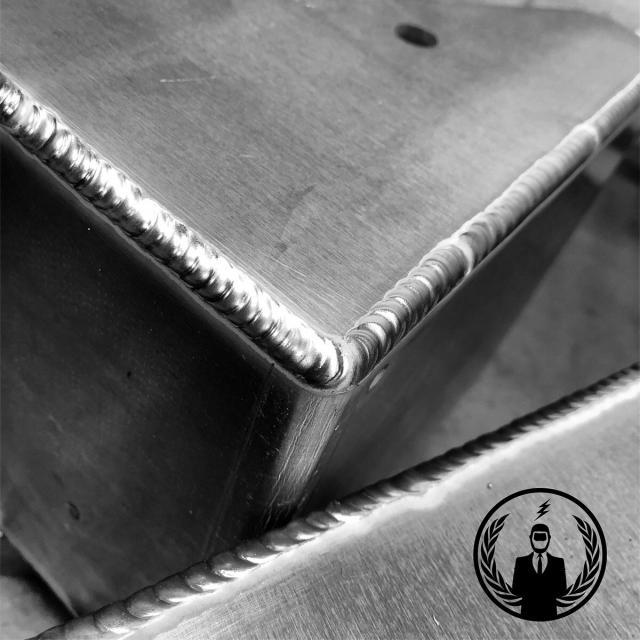Good Weld: (6, 83, 356, 417), (360, 93, 622, 366), (95, 492, 346, 623)
